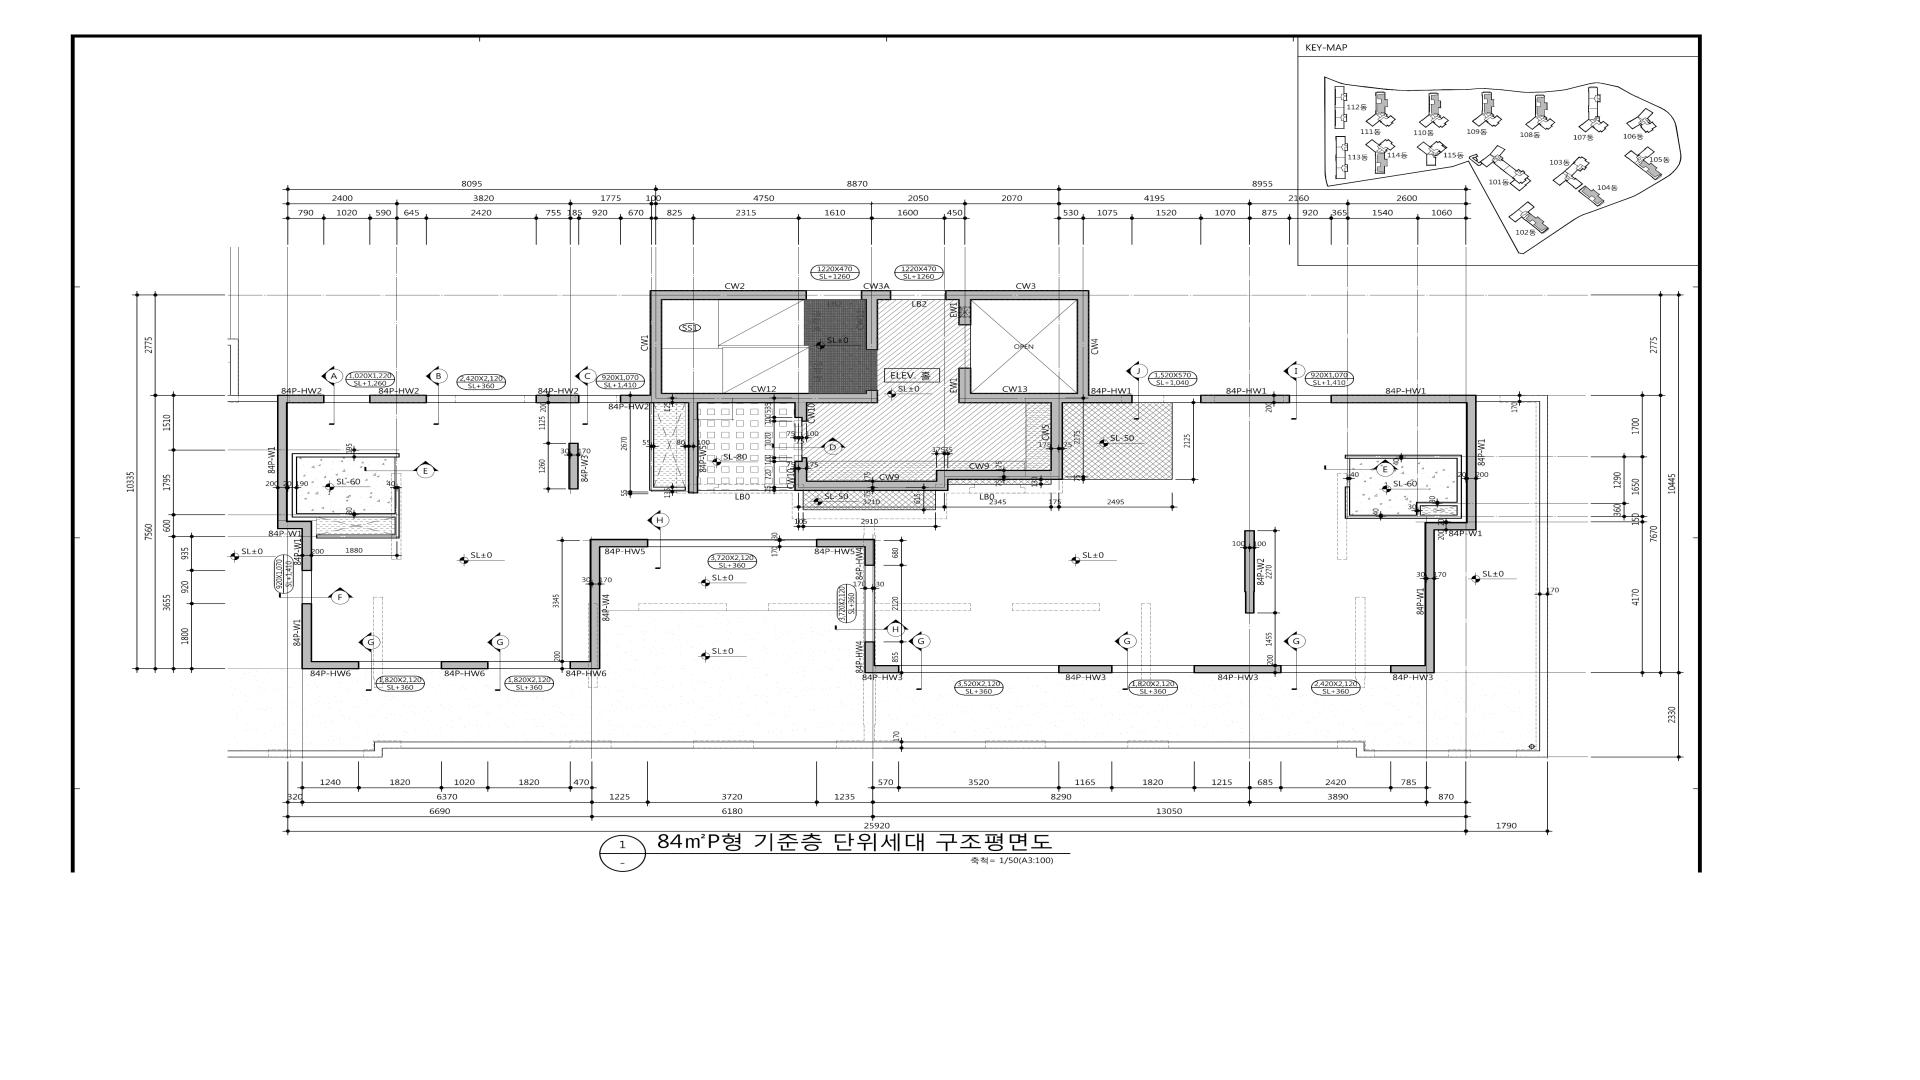wall: (662, 393, 866, 404), (650, 290, 807, 301), (1424, 522, 1435, 665), (945, 290, 1076, 301), (807, 480, 936, 491), (1076, 290, 1089, 393), (1466, 394, 1477, 522), (277, 404, 287, 529), (589, 539, 600, 661), (1331, 394, 1465, 404), (972, 393, 1089, 404), (650, 301, 662, 404), (948, 469, 1063, 480), (1244, 530, 1255, 613), (688, 404, 699, 493), (1050, 404, 1063, 469), (1200, 394, 1290, 404), (1193, 665, 1282, 674), (301, 603, 313, 670), (866, 301, 878, 349), (816, 538, 876, 547), (369, 394, 427, 404), (1058, 665, 1113, 674), (568, 443, 579, 489), (959, 368, 972, 404), (440, 661, 489, 670), (600, 538, 649, 547), (302, 529, 313, 571), (277, 394, 324, 404), (313, 661, 360, 670), (794, 458, 807, 491), (1390, 665, 1435, 674), (535, 394, 579, 404), (1089, 394, 1133, 404), (864, 641, 876, 674), (1435, 522, 1477, 530), (959, 301, 972, 326), (861, 290, 891, 301), (570, 661, 600, 670), (620, 394, 649, 404), (936, 469, 948, 491), (794, 404, 807, 422), (864, 547, 876, 566), (876, 665, 899, 674), (287, 521, 313, 529), (866, 390, 878, 404)
